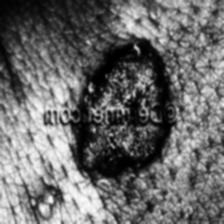Toxin: (86, 37, 170, 105), (76, 124, 168, 176)
